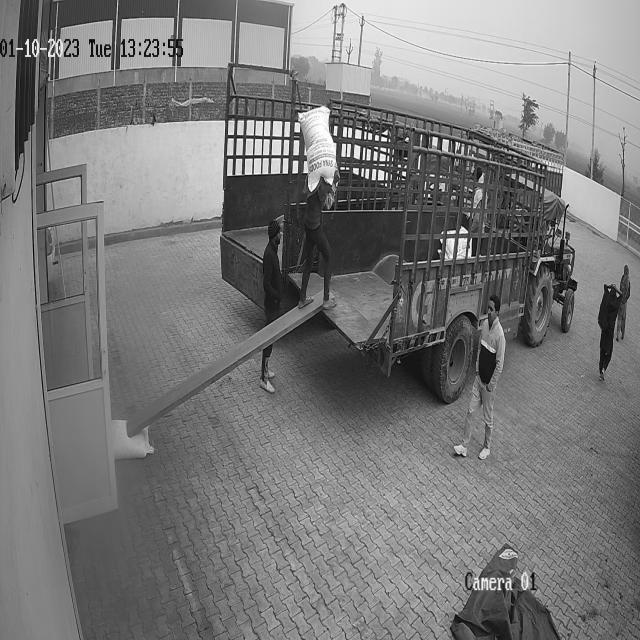sack: (298, 106, 336, 190), (111, 419, 153, 460)
